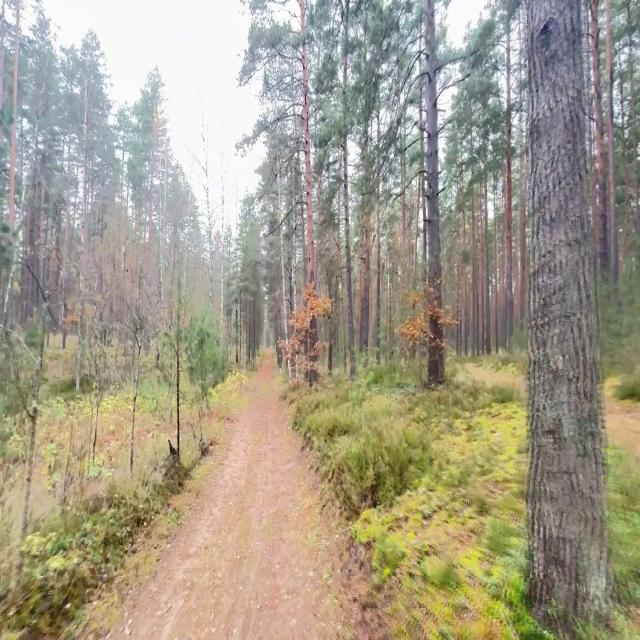bush: (12, 245, 60, 545), (165, 266, 190, 460), (186, 310, 225, 401), (86, 299, 107, 466), (129, 315, 142, 475)
trees: (524, 0, 611, 633), (424, 0, 444, 385), (589, 0, 609, 279), (192, 93, 215, 303), (299, 0, 315, 290), (343, 4, 355, 378), (605, 0, 618, 285), (9, 0, 21, 228), (505, 5, 513, 344), (116, 105, 130, 231), (360, 195, 370, 364), (519, 88, 526, 326), (147, 92, 156, 275), (483, 179, 491, 354), (471, 185, 479, 354), (81, 79, 88, 259), (375, 177, 381, 363), (279, 227, 288, 346), (493, 174, 499, 351), (461, 213, 468, 354), (220, 124, 225, 319), (401, 121, 407, 258), (413, 175, 421, 277), (290, 184, 296, 320), (388, 248, 393, 359)
